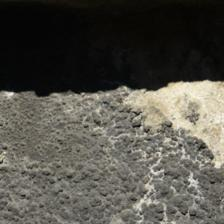Crack: (63, 48, 158, 123)
